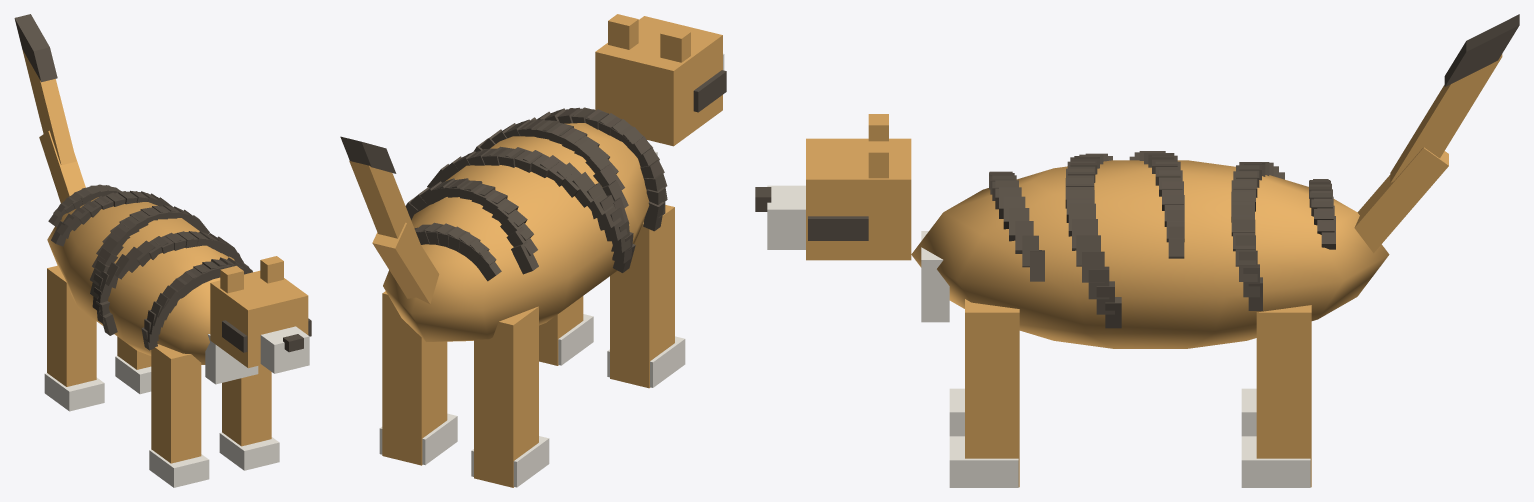
Rendered from troop-great-tiger.glb.
3 views of the same model, side by side, from view 1: azimuth 30°, elevation 25°; view 2: azimuth 150°, elevation 25°; view 3: azimuth 270°, elevation 25° (orthographic). The views are drawn at different scales.
Parts seen in each view (by area): view 1: body, stripes, head, leg_fl, leg_bl, leg_fr, tail2, muzzle, tail_tip, hoof_fr, hoof_bl, hoof_fl (+7 smaller); view 2: body, stripes, head, leg_bl, leg_fl, leg_br, tail1, tail2, leg_fr, hoof_br, hoof_bl, hoof_fl (+5 smaller); view 3: body, stripes, head, leg_fr, leg_br, tail1, tail2, muzzle, hoof_br, hoof_fr, tail_tip, chest_fur (+2 smaller).
Part boxes in pixels (box(x1,y1,x2,y2)): body: box(47, 197, 234, 364); stripes: box(48, 184, 252, 350); head: box(210, 270, 308, 368); leg_fl: box(151, 344, 201, 463); leg_bl: box(47, 265, 96, 386); leg_fr: box(222, 365, 271, 446); tail2: box(22, 49, 76, 165); muzzle: box(260, 326, 309, 373); tail_tip: box(14, 14, 57, 82); hoof_fr: box(219, 432, 279, 470); hoof_bl: box(44, 373, 104, 411); hoof_fl: box(149, 449, 209, 487); body: box(383, 123, 649, 341); stripes: box(405, 107, 667, 281); head: box(595, 16, 722, 146); leg_bl: box(474, 306, 538, 487); leg_fl: box(610, 205, 674, 388); leg_br: box(382, 291, 447, 465); tail1: box(372, 222, 439, 303); tail2: box(349, 161, 420, 243); leg_fr: box(539, 296, 583, 365); hoof_br: box(379, 413, 457, 465); hoof_bl: box(471, 436, 549, 487); hoof_fl: box(607, 336, 685, 387); body: box(911, 160, 1389, 348); stripes: box(989, 151, 1335, 328); head: box(806, 138, 911, 260); leg_fr: box(965, 299, 1019, 487); leg_br: box(1256, 305, 1311, 487); tail1: box(1354, 147, 1448, 253); tail2: box(1390, 54, 1502, 182); muzzle: box(767, 185, 805, 249); hoof_br: box(1241, 436, 1310, 487); hoof_fr: box(949, 436, 1018, 487); tail_tip: box(1444, 14, 1519, 86); chest_fur: box(921, 231, 949, 322).
Bounding box in the file's own units: 0.1429 × 0.3067 × 0.4904.
